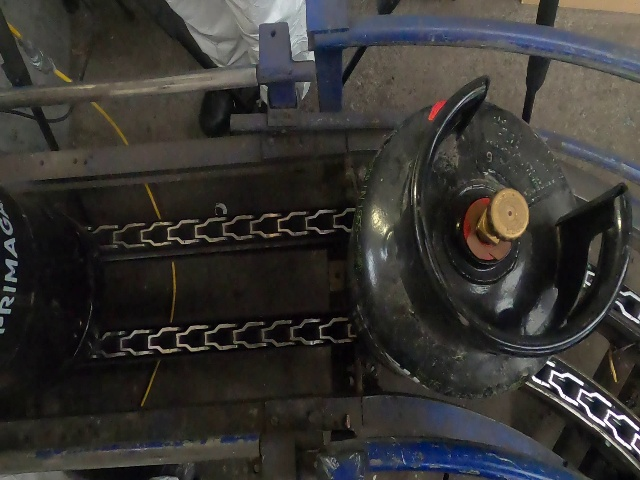gas_bottle: (13, 10, 640, 480)
